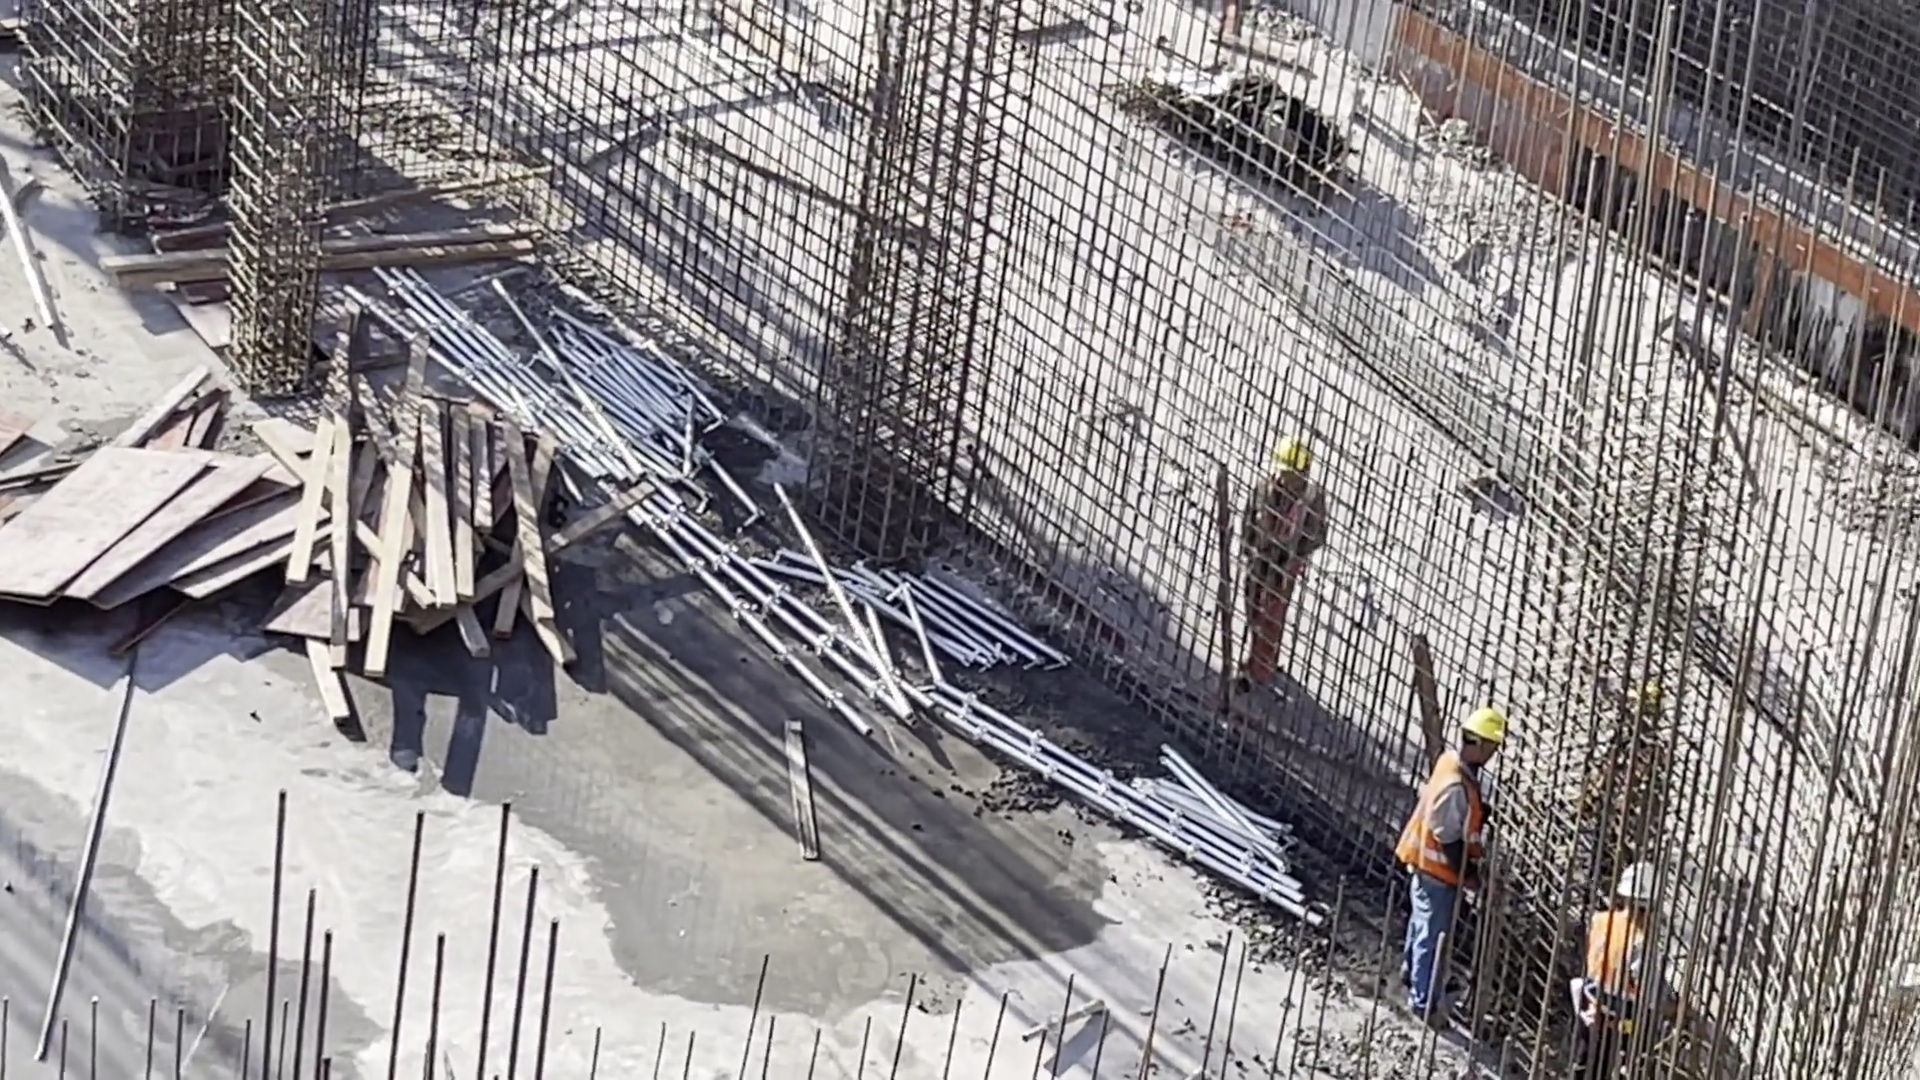board: (1, 449, 294, 621)
helmet: (1464, 705, 1522, 741), (1270, 438, 1329, 472), (1611, 860, 1666, 897)
person: (1393, 695, 1512, 991), (1238, 437, 1334, 713), (1570, 853, 1682, 1031)
scaffold: (537, 321, 734, 480), (904, 575, 1059, 700), (1147, 760, 1291, 878)
vest: (1393, 755, 1490, 886), (1238, 482, 1325, 612), (1575, 907, 1656, 1020)
wood: (302, 336, 561, 685)
